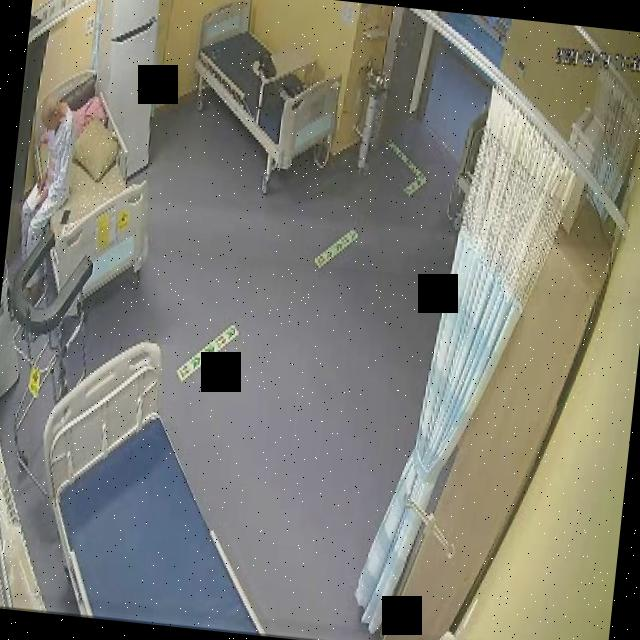bed: (25, 331, 294, 634), (16, 65, 168, 307), (183, 0, 350, 175)
patient: (18, 84, 82, 260)
sit: (18, 86, 80, 264)
walker: (0, 216, 102, 494)
